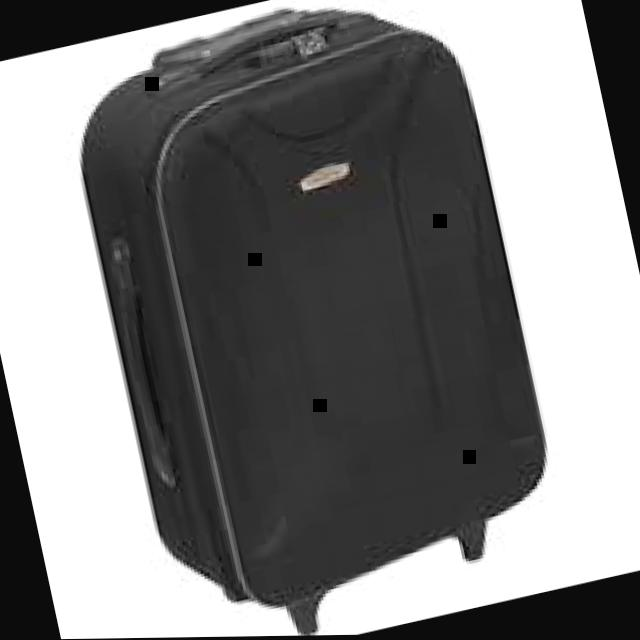luggage: (25, 0, 577, 640)
